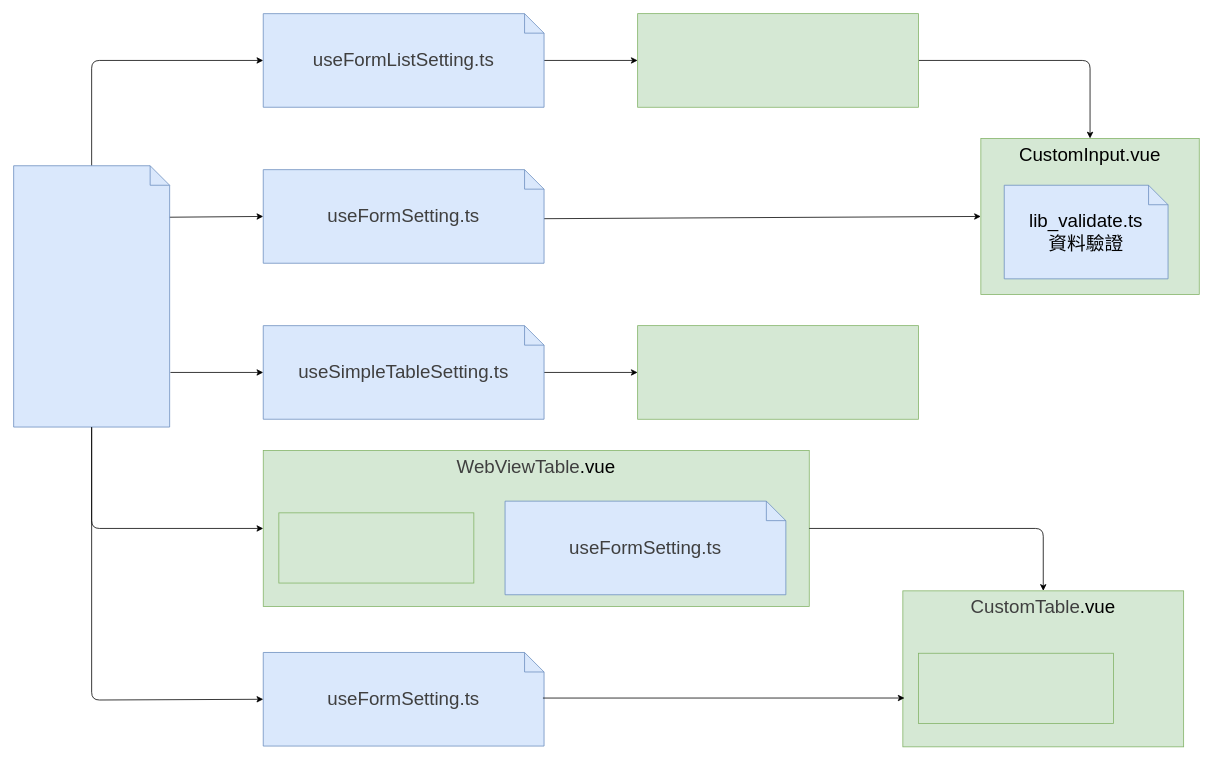
The diagram is 1213 pixels wide and 761 high, and some of its shapes have lost their labels. The centre of each missing label's shape, as x and y in pixels:
columns.ts 定義欄位設定: the point at 91,296
ColumnSetting.vue 紀錄欄位設定: the point at 1015,687
DataLoader.vue 紀錄搜尋設定: the point at 376,547
FormList.vue: the point at 777,60
SimpleTable .vue: the point at 777,372
